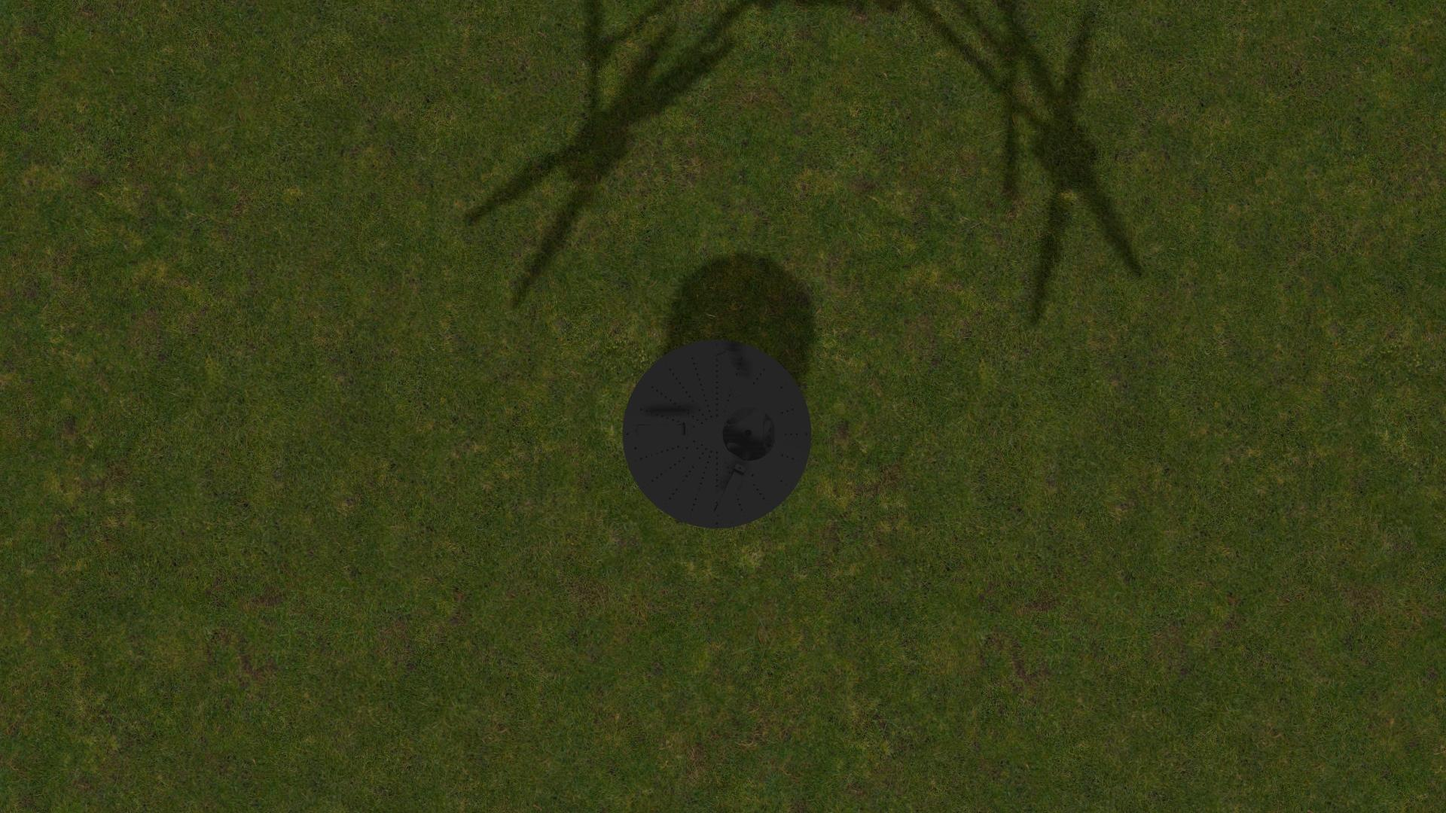alca: (712, 462, 746, 520), (713, 346, 746, 403), (632, 424, 691, 436)
armadilha: (622, 339, 812, 529)
